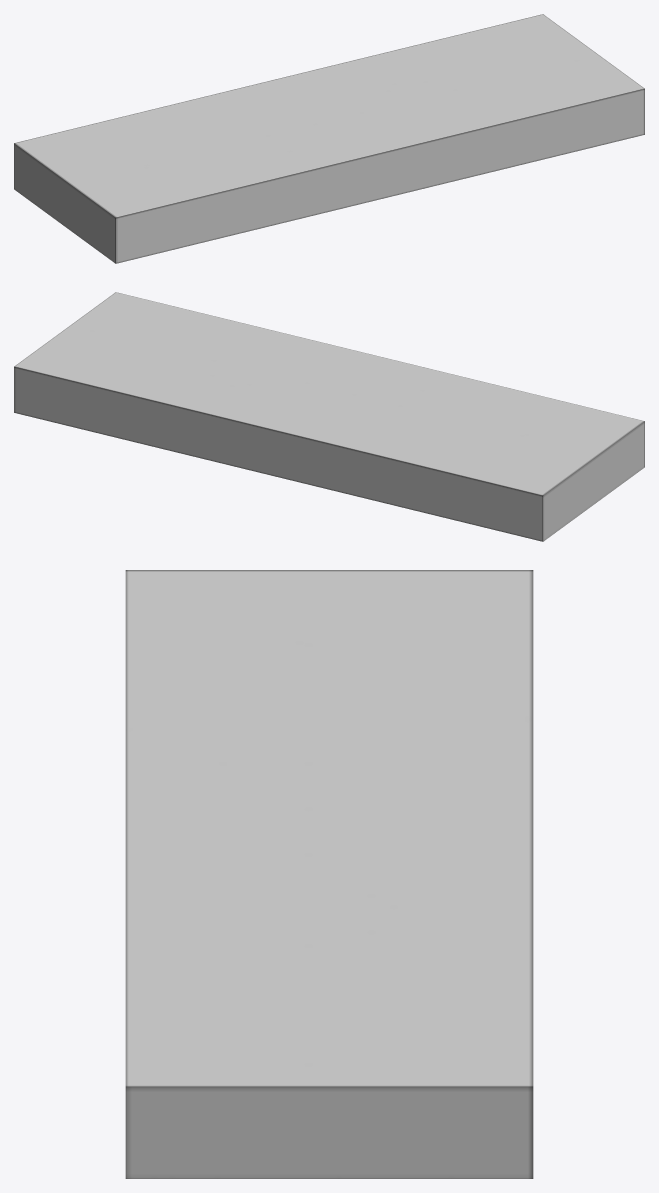
File: Roof_Half_01.FBX
3 views of the same model, one above another, from view 1: azimuth 30°, elevation 25°; view 2: azimuth 150°, elevation 25°; view 3: azimuth 270°, elevation 25° (orthographic). The views are drawn at different scales.
Parts seen in each view (by area): view 1: Roof_Half_01; view 2: Roof_Half_01; view 3: Roof_Half_01.
Boxes of the visible parts, x1=… form: Roof_Half_01: x1=14, y1=14, x2=644, y2=263; Roof_Half_01: x1=14, y1=292, x2=644, y2=541; Roof_Half_01: x1=125, y1=570, x2=533, y2=1178.
Bounding box in the file's own units: 6 × 0.5 × 2.
